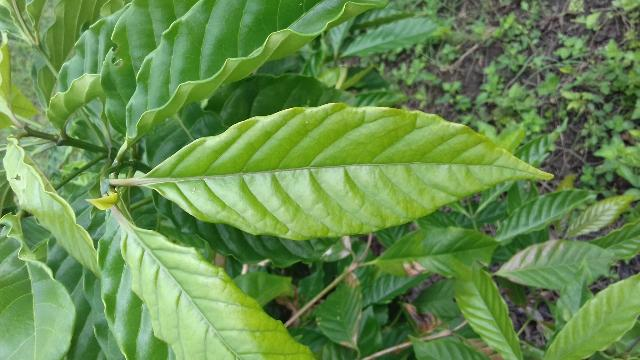healthy: (109, 103, 556, 241)
